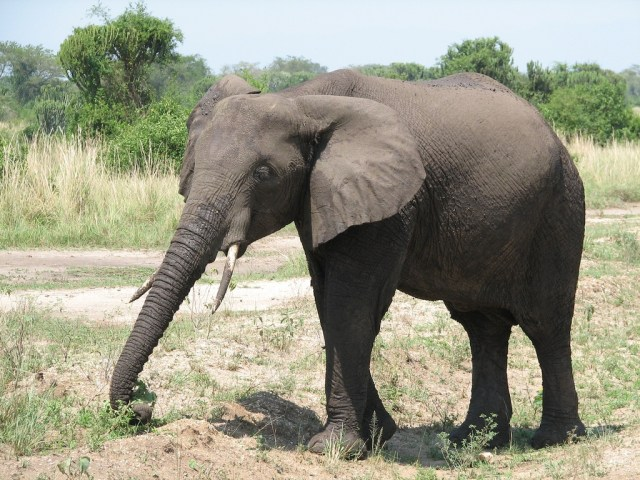elephant: (103, 55, 596, 456)
